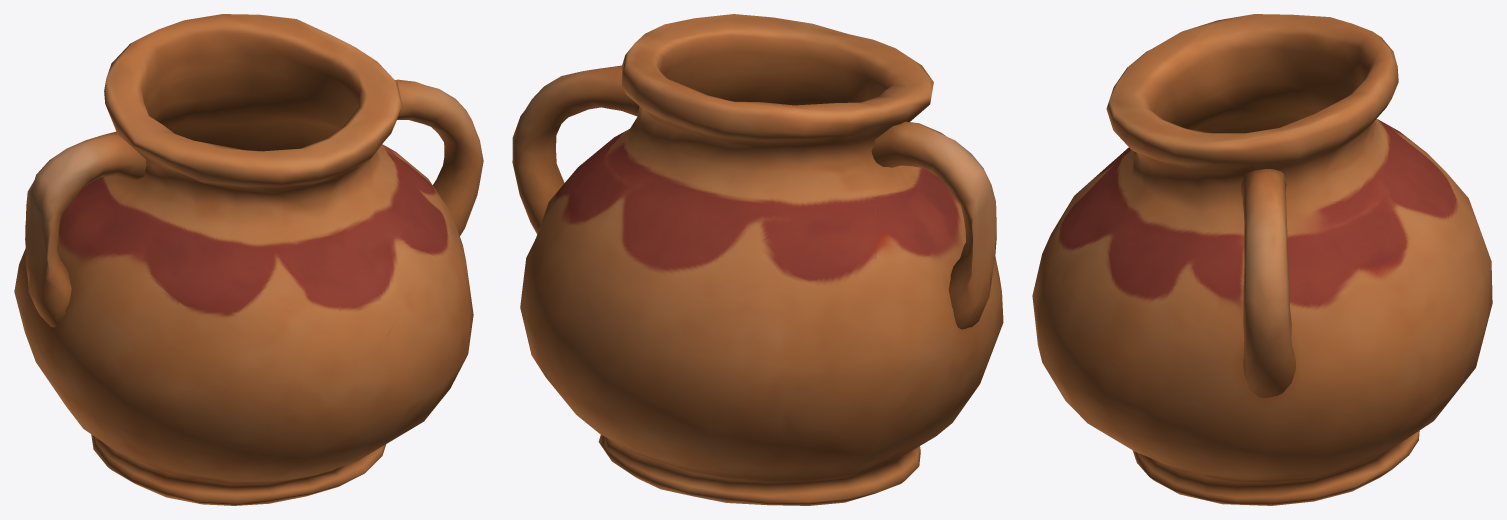
Rendered from anfora_asas_a.glb.
3 renders of one model, left to right at view 1: azimuth 30°, elevation 25°; view 2: azimuth 150°, elevation 25°; view 3: azimuth 270°, elevation 25°, orthographic. The views are drawn at different scales.
Parts seen in each view (by area): view 1: anfora_asas_a; view 2: anfora_asas_a; view 3: anfora_asas_a.
Part boxes in pixels (left/top/right/bottom): anfora_asas_a: left=14, top=14, right=483, bottom=505; anfora_asas_a: left=512, top=14, right=1003, bottom=505; anfora_asas_a: left=1032, top=14, right=1492, bottom=505.
Bounding box in the file's own units: 0.2682 × 0.2238 × 0.2379.
1 material, 1 textured.
